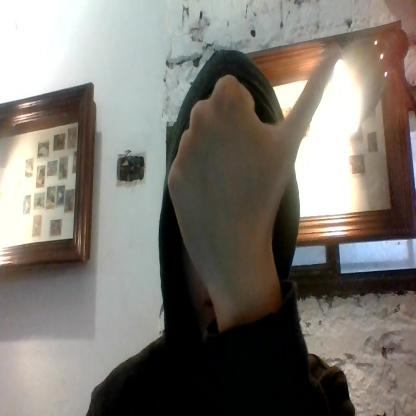left: (166, 38, 338, 244)
